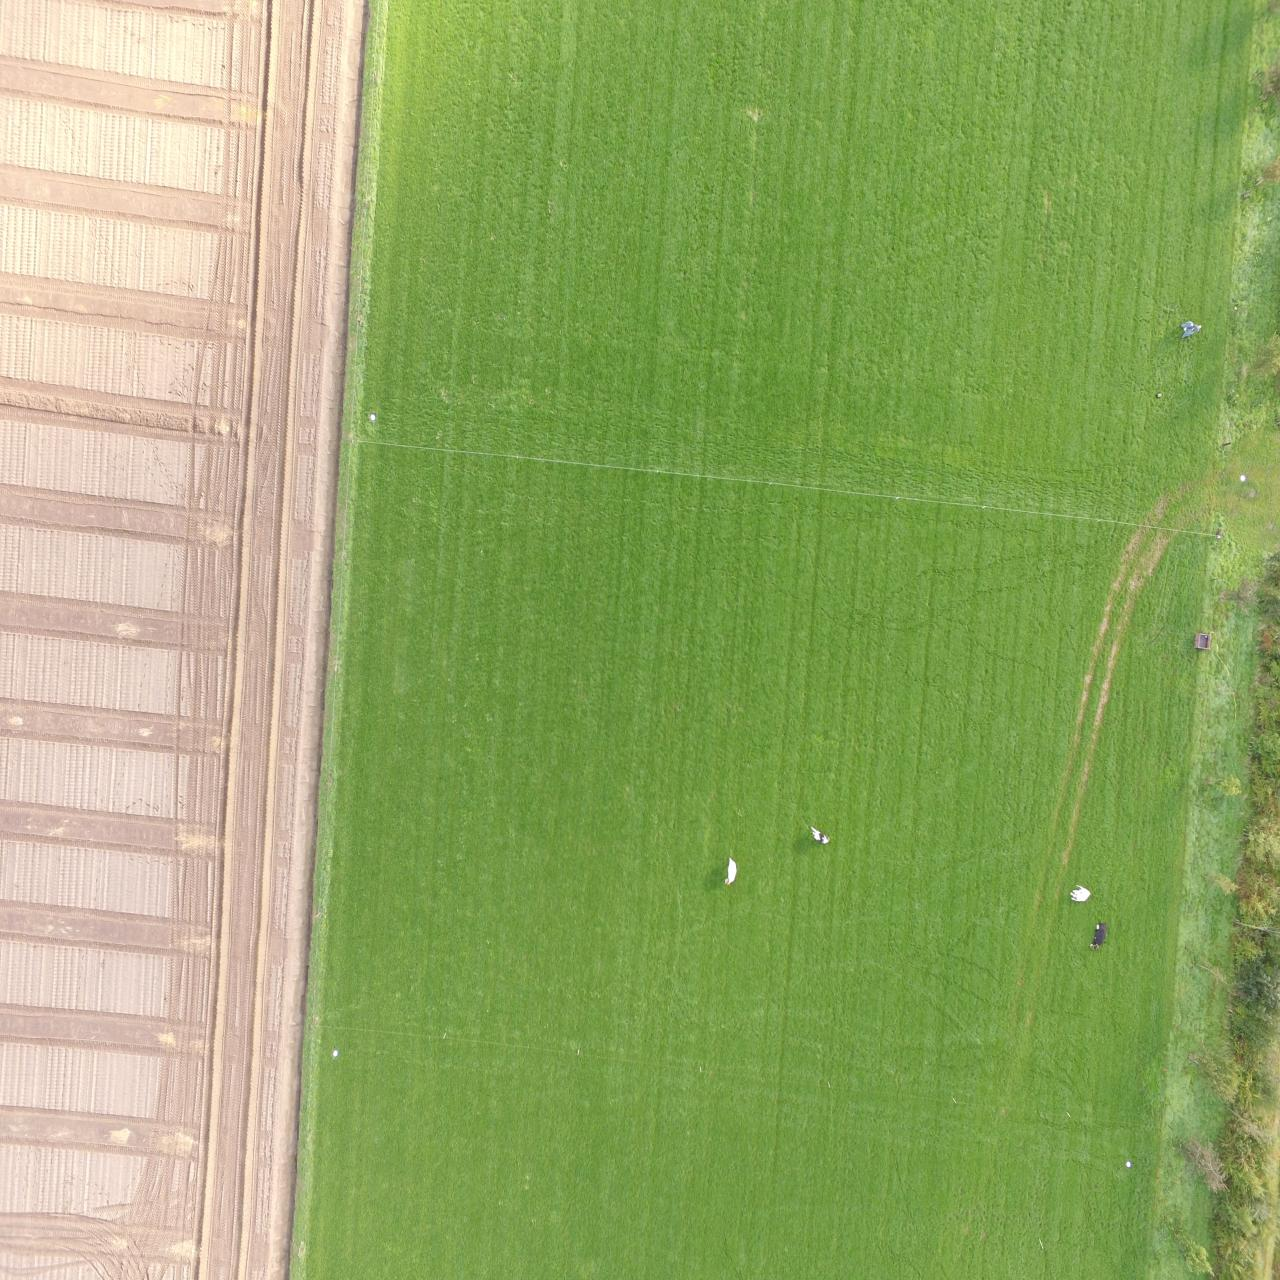cow: (1088, 920, 1108, 952), (1070, 883, 1092, 902), (810, 825, 831, 844), (724, 855, 736, 886)
